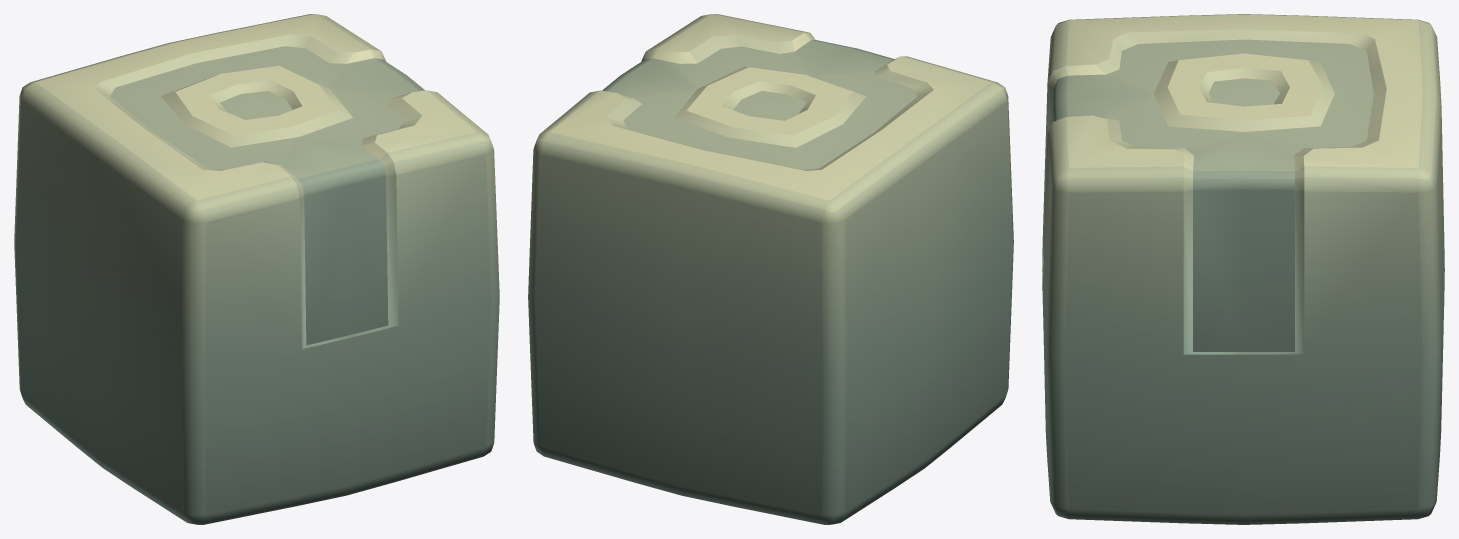
The model's file is Stone_Free2_L.fbx.
3 renders of one model, left to right at view 1: azimuth 30°, elevation 25°; view 2: azimuth 150°, elevation 25°; view 3: azimuth 270°, elevation 25°, orthographic. The views are drawn at different scales.
Visible parts, largest first — view 1: Stone_Free2_L_LOD0; view 2: Stone_Free2_L_LOD0; view 3: Stone_Free2_L_LOD0.
Boxes of the visible parts, <box> form: Stone_Free2_L_LOD0: <box>14,14,499,524</box>; Stone_Free2_L_LOD0: <box>528,14,1013,524</box>; Stone_Free2_L_LOD0: <box>1042,14,1444,524</box>.
Size of what is drawn, in the model's own units: 1.09 by 1.09 by 1.09.
